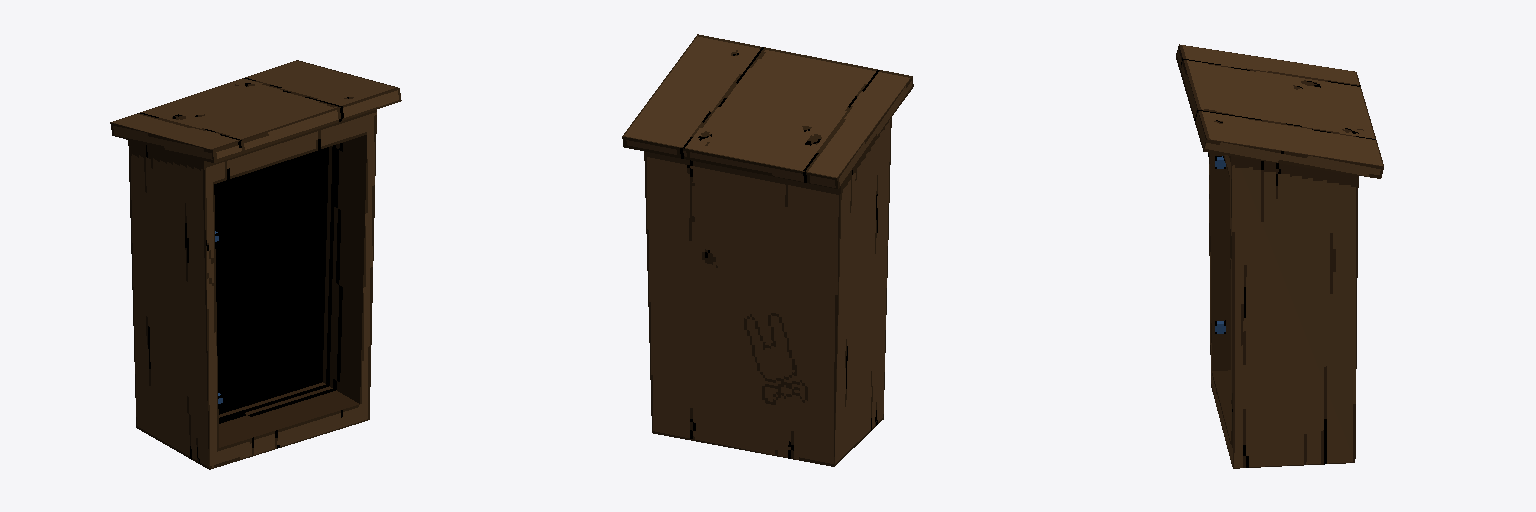
3 renders of one model, left to right at view 1: azimuth 30°, elevation 25°; view 2: azimuth 150°, elevation 25°; view 3: azimuth 270°, elevation 25°, orthographic.
Visible parts, largest first — view 1: House; view 2: House; view 3: House.
Boxes of the visible parts, box(x1,y1,x2,y2) form: House: box(110, 60, 401, 469); House: box(622, 34, 913, 466); House: box(1176, 44, 1383, 468).
Size of the model in its own units: 2.73 by 4.09 by 2.29.
1 materials, 1 textured.